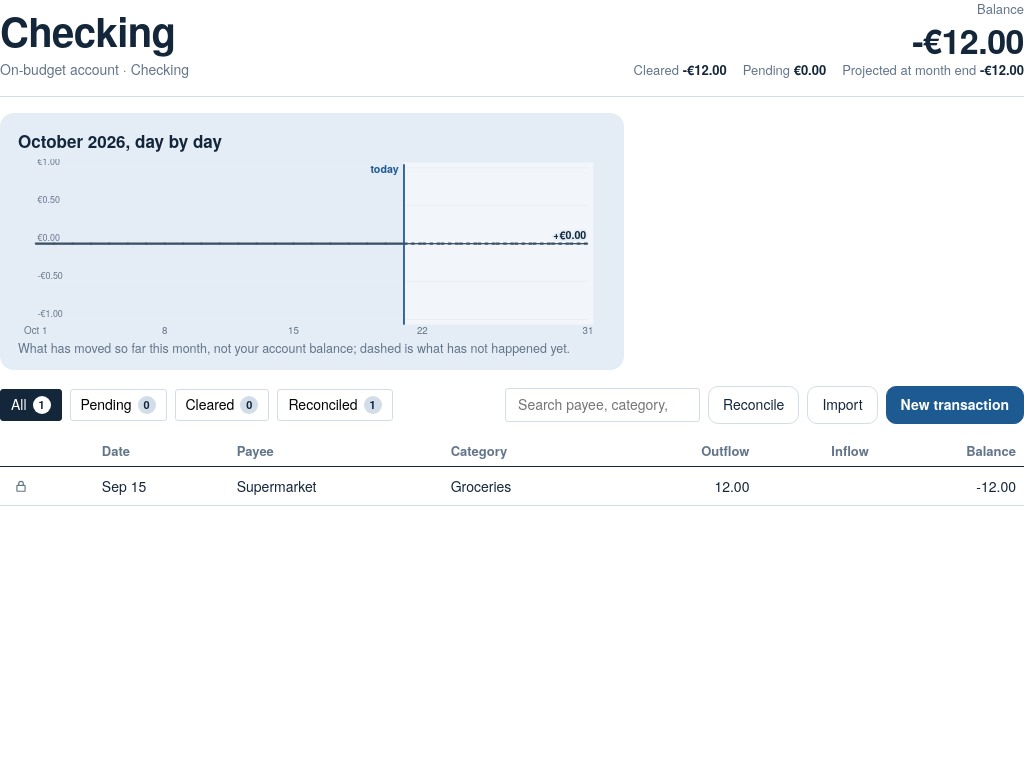
it: AccountRegisterScreen (#54, #333) › opens a read-only panel for a reconciled transaction instead of the edit form
Click the button "Supermarket" at (336, 486), box [237,476,435,497]
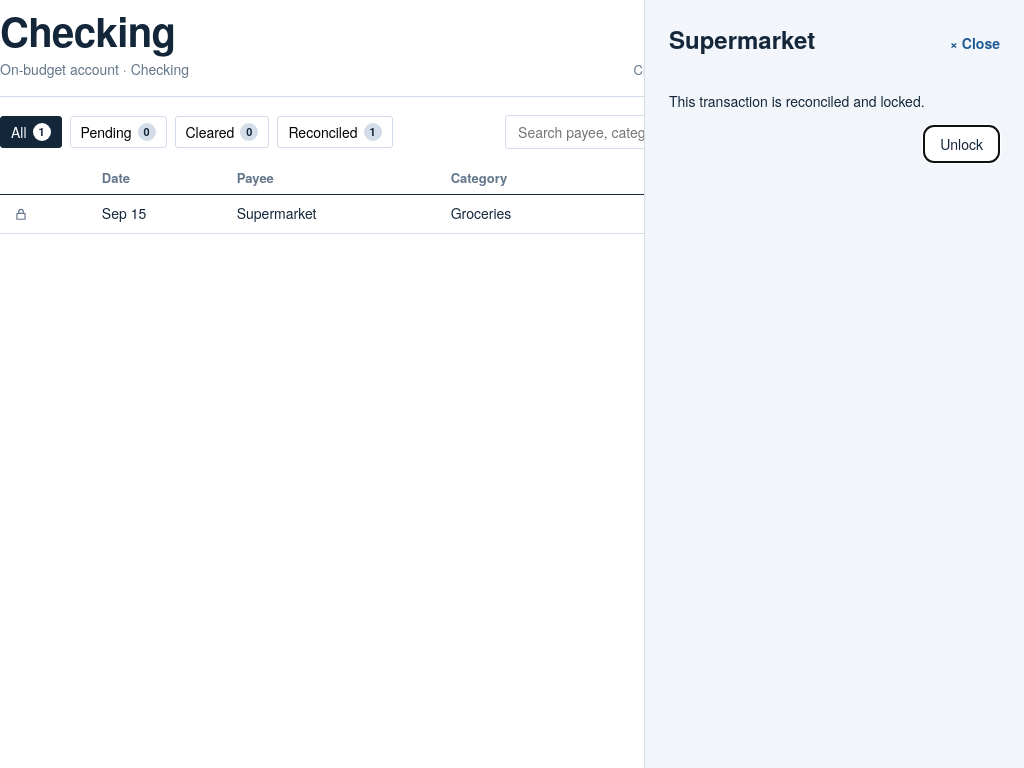
expect the text "This transaction is reconciled and locked." is shown: met, box [669,91,925,111]
